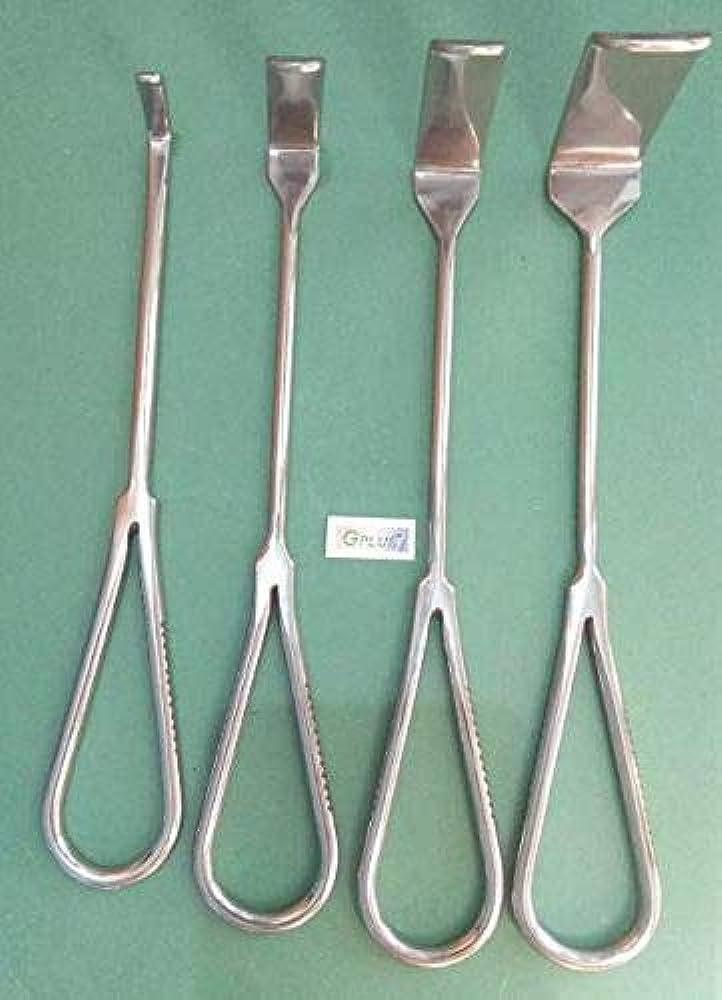Langenbach Retractor: (514, 27, 714, 976), (356, 30, 533, 969), (189, 44, 357, 941), (27, 49, 187, 917)
